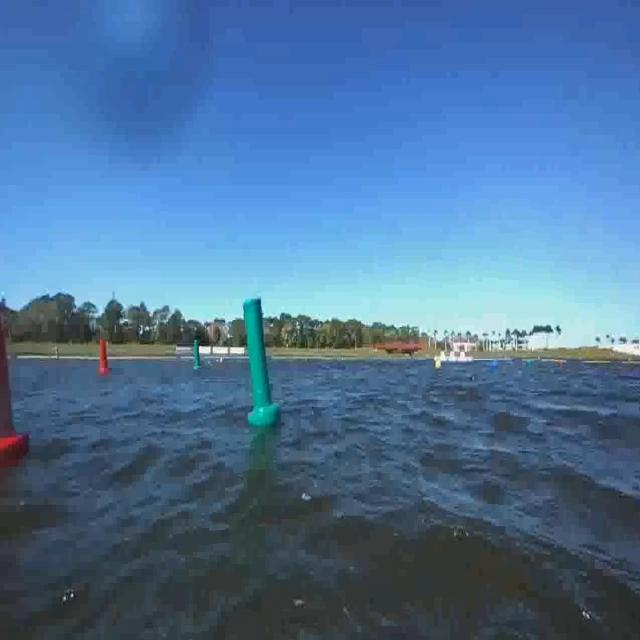blue-buoy: (490, 357, 500, 374)
green-column-buoy: (244, 294, 281, 427), (194, 340, 203, 370)
red-column-buoy: (0, 297, 29, 465), (97, 340, 108, 376)
yellow-buoy: (434, 357, 441, 371)
